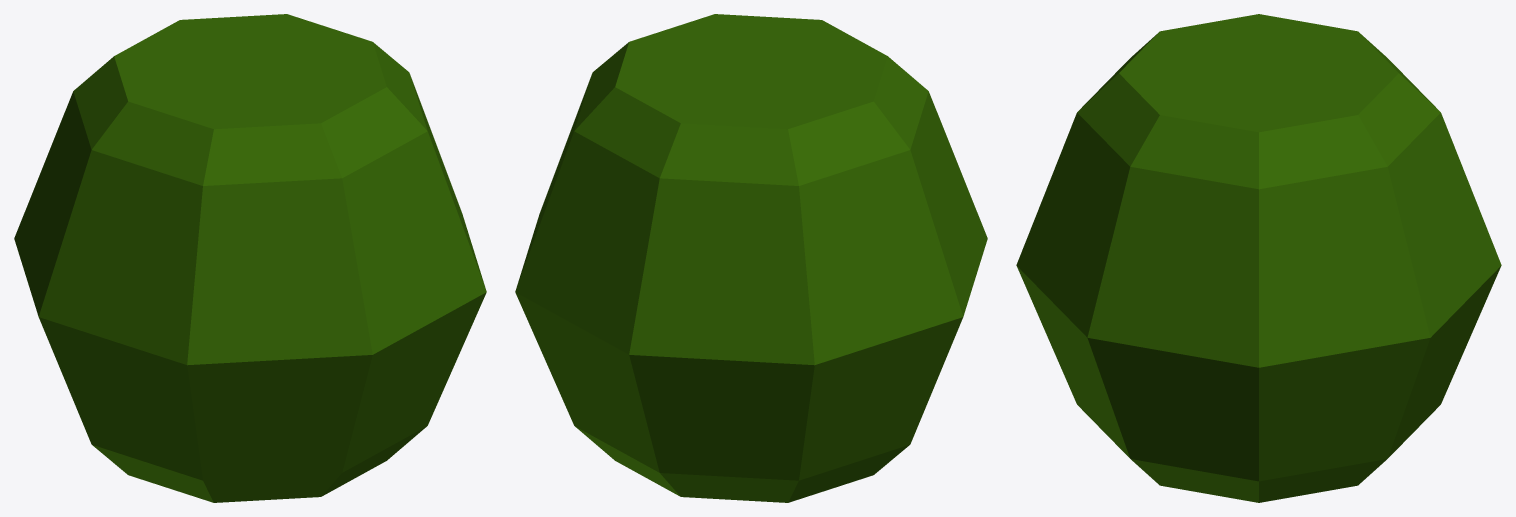
File: Asian_Prop_Ornament_Jade_Hanging_01.FBX
3 renders of one model, left to right at view 1: azimuth 30°, elevation 25°; view 2: azimuth 150°, elevation 25°; view 3: azimuth 270°, elevation 25°, orthographic.
Parts seen in each view (by area): view 1: Asian_Prop_Ornament_Jade_Hanging_01; view 2: Asian_Prop_Ornament_Jade_Hanging_01; view 3: Asian_Prop_Ornament_Jade_Hanging_01.
Part boxes in pixels (x1,y1,x2,y2): Asian_Prop_Ornament_Jade_Hanging_01: (14, 14, 486, 502); Asian_Prop_Ornament_Jade_Hanging_01: (515, 14, 987, 502); Asian_Prop_Ornament_Jade_Hanging_01: (1016, 14, 1501, 502).
Bounding box in the file's own units: 280 × 236 × 280.
